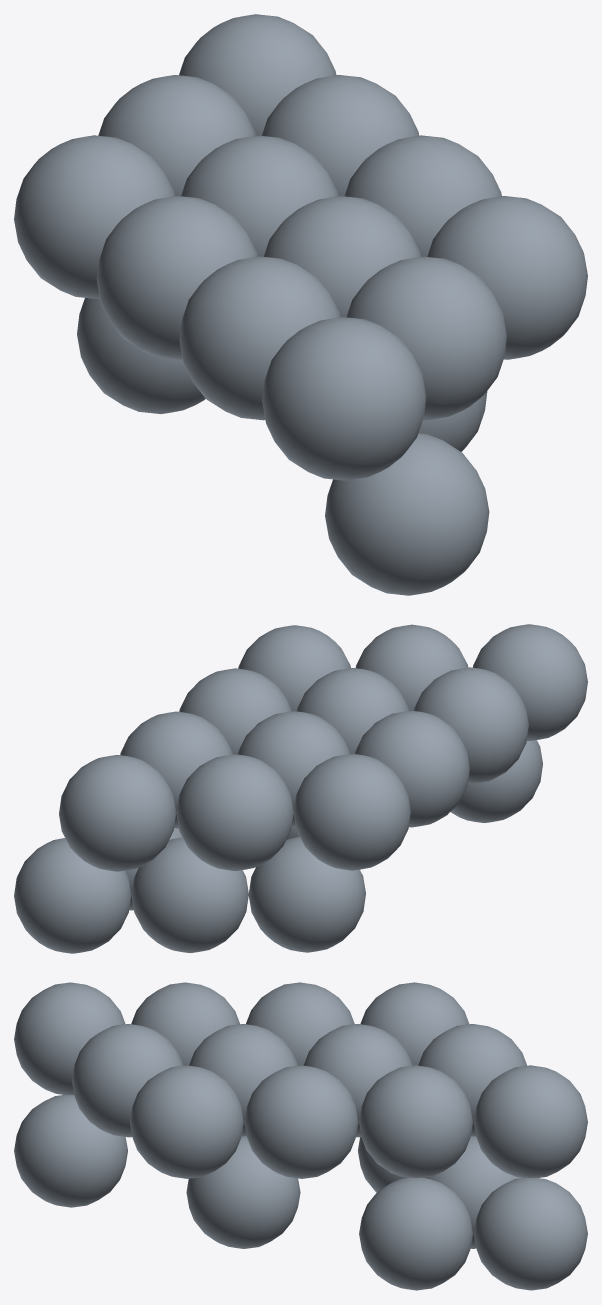
3 views of the same model, one above another, from view 1: azimuth 30°, elevation 25°; view 2: azimuth 150°, elevation 25°; view 3: azimuth 270°, elevation 25° (orthographic). The views are drawn at different scales.
Parts seen in each view (by area): view 1: GeoSphere286; view 2: GeoSphere286; view 3: GeoSphere286.
Boxes of the visible parts, <box> form: GeoSphere286: <box>14,14,587,595</box>; GeoSphere286: <box>14,624,587,953</box>; GeoSphere286: <box>14,982,587,1290</box>.
Size of the model in its own units: 126 by 74.92 by 201.
1 material, 1 textured.
